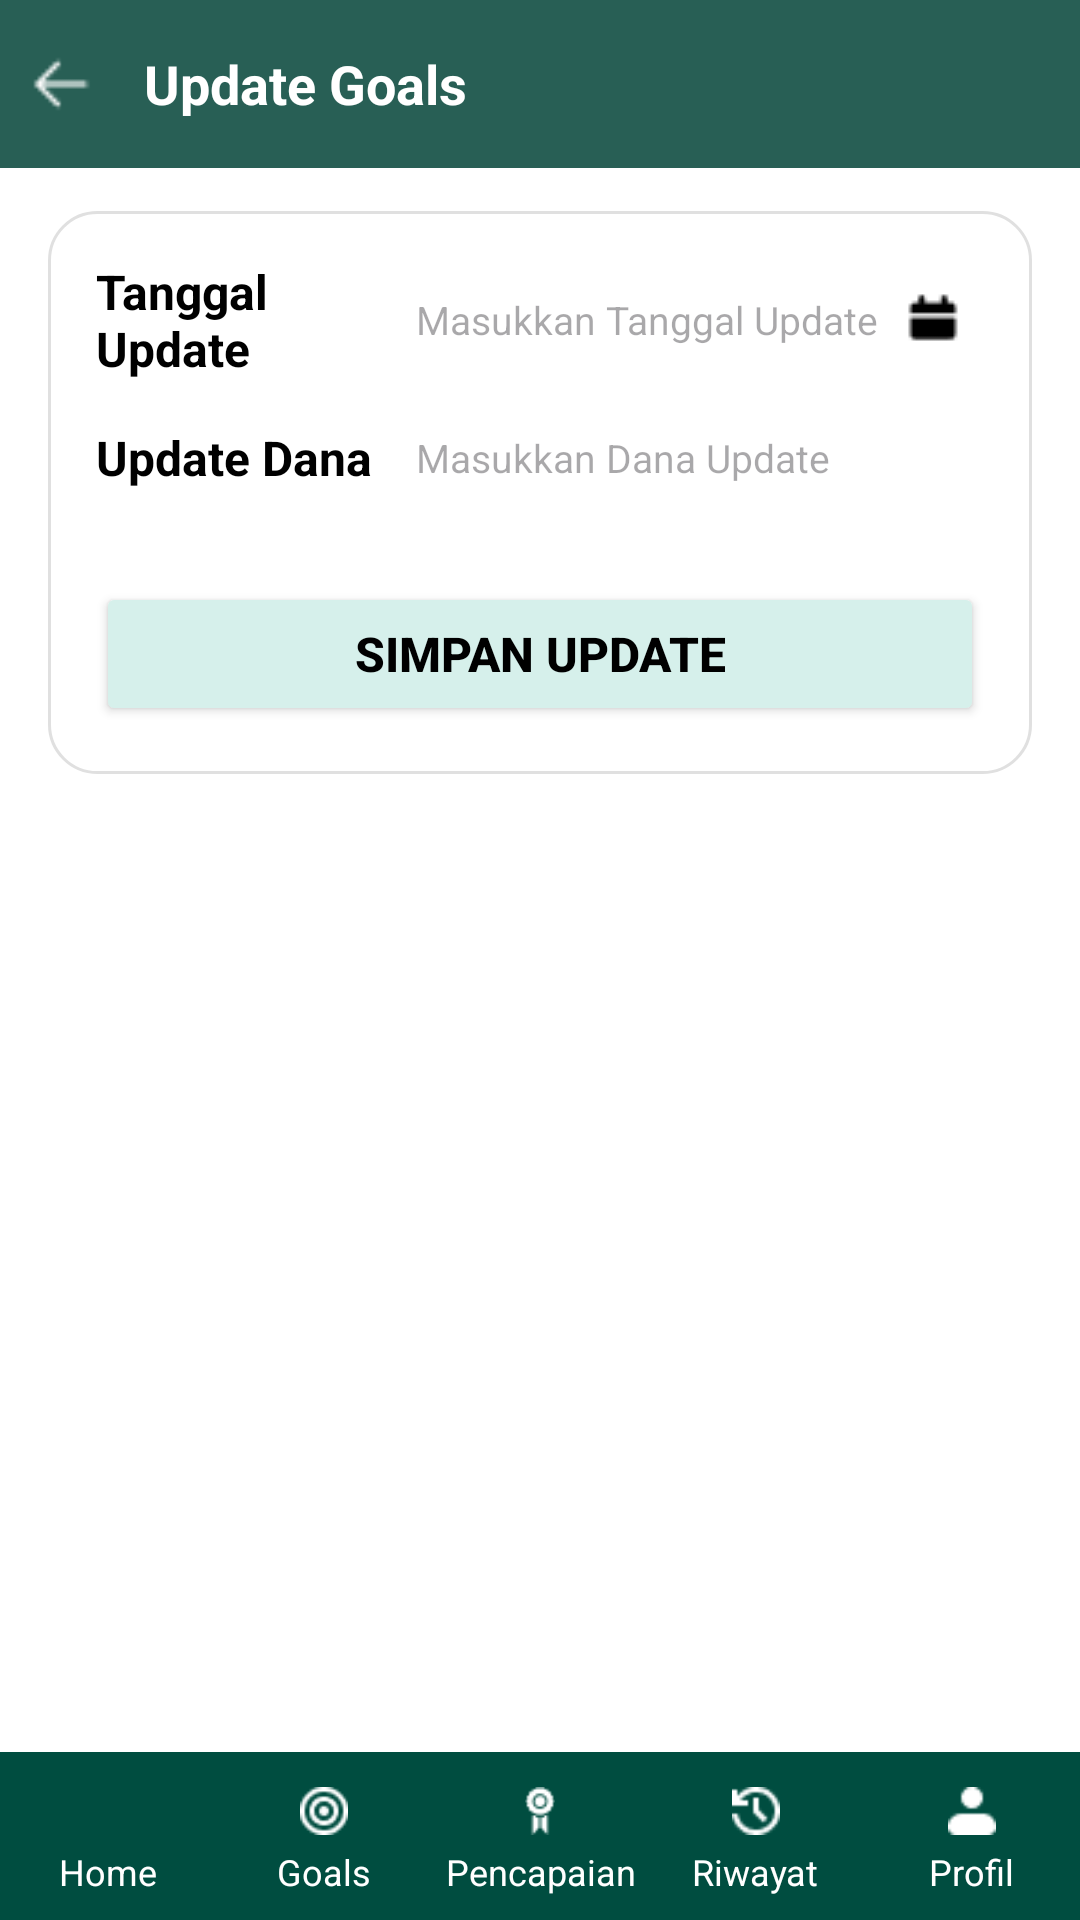

Named icons in this screenshot (1080*1920) and their bounding boxes, (x1,y1,x2,y2):
Back button: (34,59,89,109)
